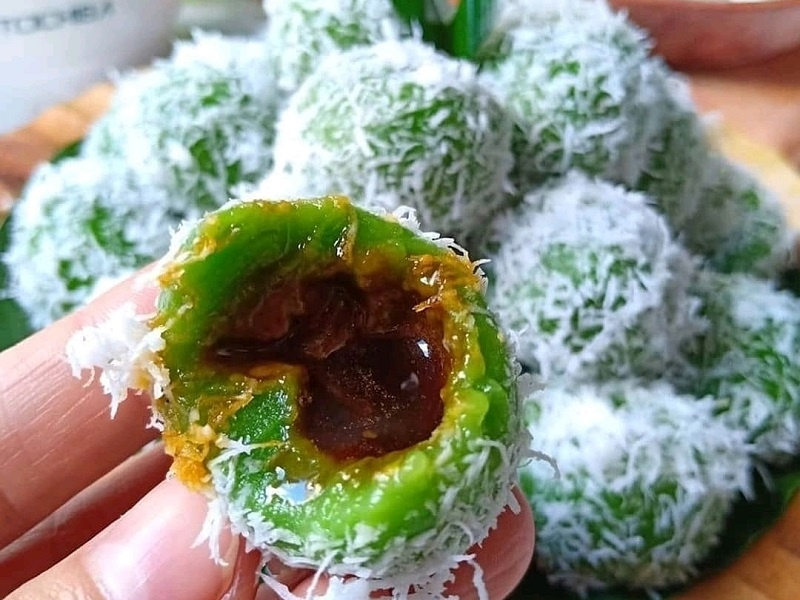klepon: (51, 188, 541, 594)
